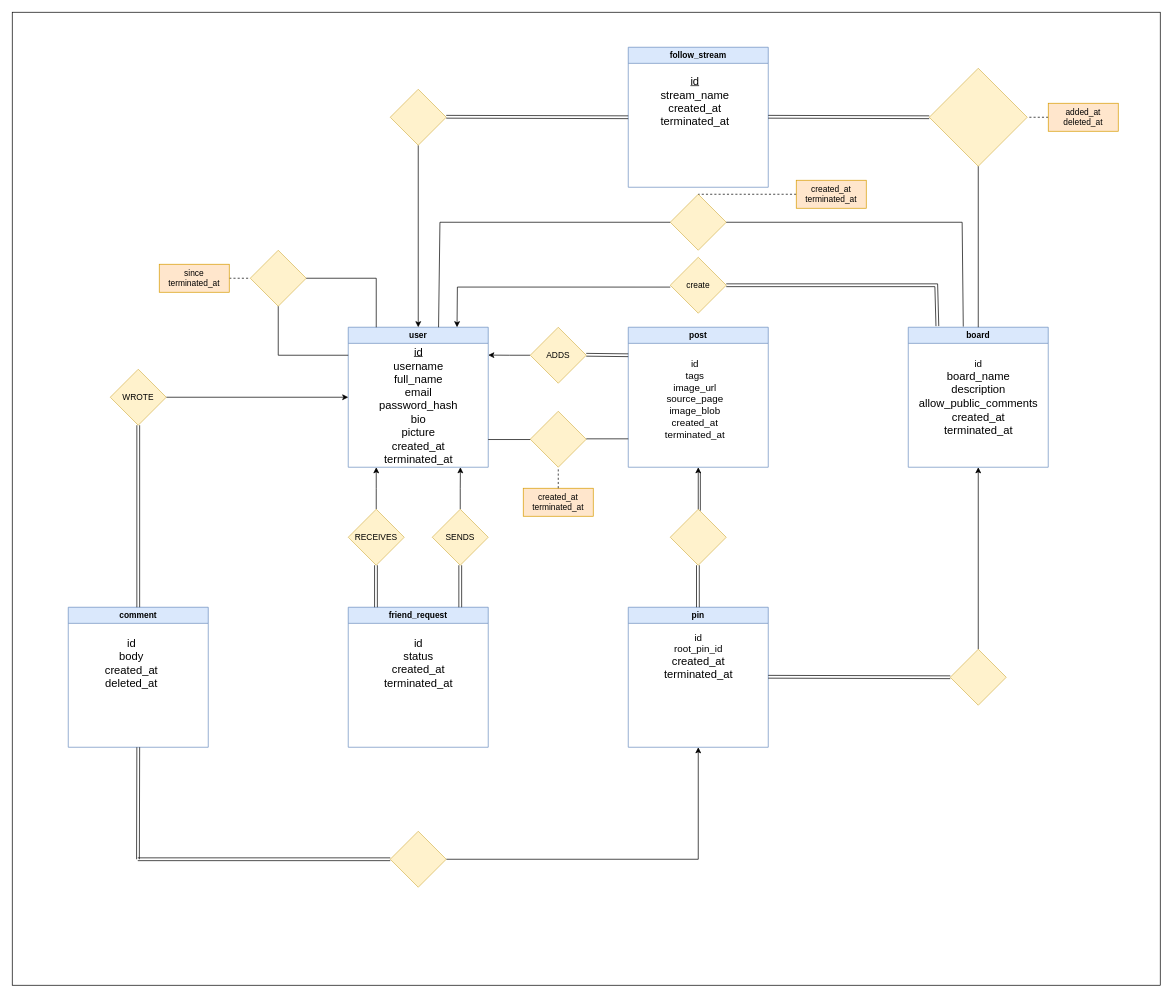
The diagram is 1173 pixels wide and 998 high, and some of its shapes have lost their labels. The centre of each missing label's shape, as x and y in pixels:
"CONTAINS" goes at (x=978, y=677).
"CREATES" goes at (x=418, y=117).
"follow" goes at (x=698, y=222).
"follow_stream_board" goes at (x=978, y=117).
"friend" goes at (x=278, y=278).
"LIKES" goes at (x=558, y=439).
"OF" goes at (x=698, y=537).
"on" goes at (x=418, y=859).
